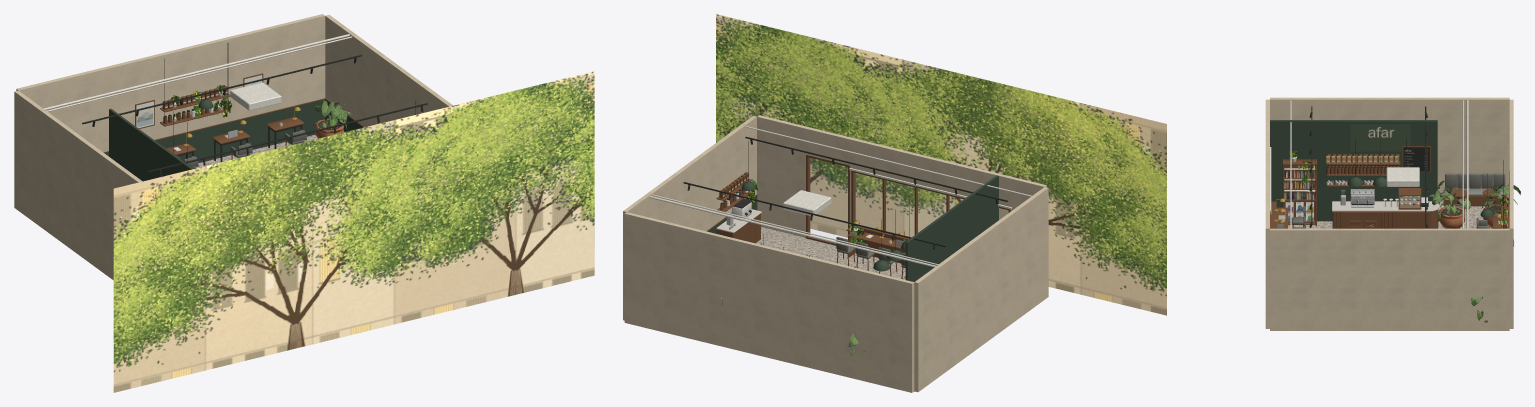
Rendered from afar.glb.
3 renders of one model, left to right at view 1: azimuth 30°, elevation 25°; view 2: azimuth 150°, elevation 25°; view 3: azimuth 270°, elevation 25°, orthographic. The views are drawn at different scales.
Parts seen in each view (by area): view 1: WALL_front_VIEW_afr_window_view, WALL_back_afr_wall, WALL_left_afr_wall, WALL_right_afr_wall, WALL_back_afr_c_green, afr_c_green, afr_c_ceramic, afr_c_metal_dk, afr_wood, WALL_back_afr_wood, afr_ph_potted_plant_02_2, WALL_back_afr_print (+1 smaller); view 2: WALL_front_VIEW_afr_window_view, WALL_back_afr_wall, WALL_left_afr_wall, WALL_front_afr_wall, WALL_right_afr_wall, afr_c_green, afr_c_ceramic, afr_wood, afr_floor, afr_c_metal_dk, WALL_front_afr_wood, afr_c_fabric; view 3: WALL_right_afr_wall, WALL_left_afr_wall, afr_c_green, afr_wood, afr_print, afr_c_ceramic, afr_c_fabric, WALL_back_afr_wall, WALL_front_afr_wall, afr_c_metal_dk, afr_ph_potted_plant_02_0, afr_books (+6 smaller).
Boxes of the visible parts, box(x1,y1,x2,y2) form: WALL_front_VIEW_afr_window_view: box(113, 71, 594, 392); WALL_back_afr_wall: box(16, 14, 325, 152); WALL_left_afr_wall: box(14, 90, 142, 280); WALL_right_afr_wall: box(325, 14, 452, 126); WALL_back_afr_c_green: box(105, 99, 324, 162); afr_c_green: box(109, 99, 213, 181); afr_c_ceramic: box(44, 34, 352, 151); afr_c_metal_dk: box(82, 54, 427, 176); afr_wood: box(162, 86, 304, 159); WALL_back_afr_wood: box(103, 73, 324, 153); afr_ph_potted_plant_02_2: box(312, 100, 351, 138); WALL_back_afr_print: box(136, 75, 262, 128); WALL_front_VIEW_afr_window_view: box(716, 14, 1166, 315); WALL_back_afr_wall: box(624, 212, 914, 392); WALL_left_afr_wall: box(914, 187, 1048, 392); WALL_front_afr_wall: box(757, 115, 1046, 237); WALL_right_afr_wall: box(623, 116, 756, 320); afr_c_green: box(741, 175, 998, 281); afr_c_ceramic: box(649, 126, 1031, 267); afr_wood: box(716, 172, 908, 279); afr_floor: box(755, 227, 914, 391); afr_c_metal_dk: box(683, 136, 1007, 277); WALL_front_afr_wood: box(805, 155, 1010, 245); afr_c_fabric: box(836, 237, 905, 267); WALL_right_afr_wall: box(1270, 228, 1509, 330); WALL_left_afr_wall: box(1270, 97, 1509, 199); afr_c_green: box(1270, 120, 1493, 221); afr_wood: box(1273, 146, 1506, 228); afr_print: box(1285, 124, 1429, 221); afr_c_ceramic: box(1277, 100, 1507, 228); afr_c_fabric: box(1277, 173, 1505, 228); WALL_back_afr_wall: box(1509, 99, 1513, 328); WALL_front_afr_wall: box(1265, 99, 1269, 328); afr_c_metal_dk: box(1309, 106, 1492, 227); afr_ph_potted_plant_02_0: box(1429, 180, 1470, 228); afr_books: box(1284, 168, 1315, 199).
Bounding box in the file's own units: 16 × 6.5 × 10.88.
Materials: 22 (17 with a texture image).
